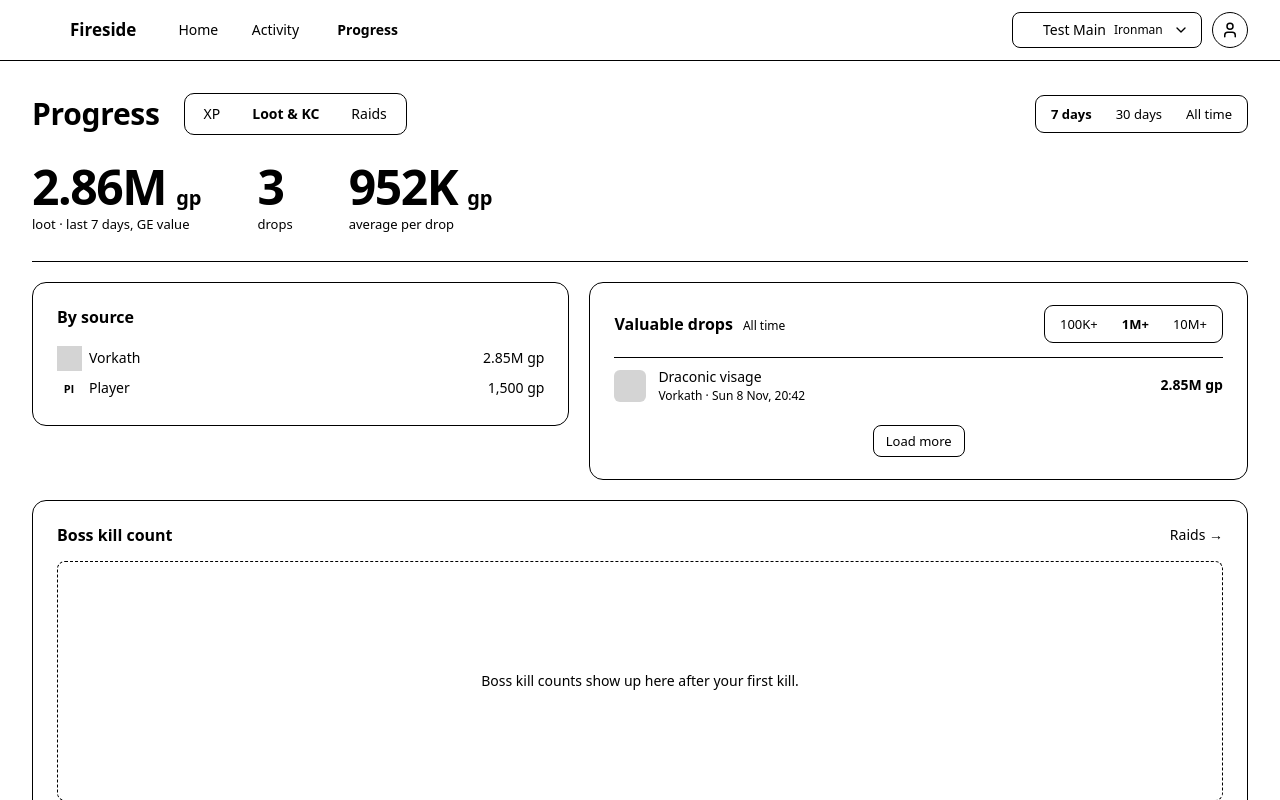
Test: Loot › changes the range with the toggle and keeps it in the URL
Expected: the text "loot · last 7 days, GE value" is shown, [32,215,202,234]
Click the radio button labelled "All time". click: (1209, 114)
box: [1174,99,1244,129]
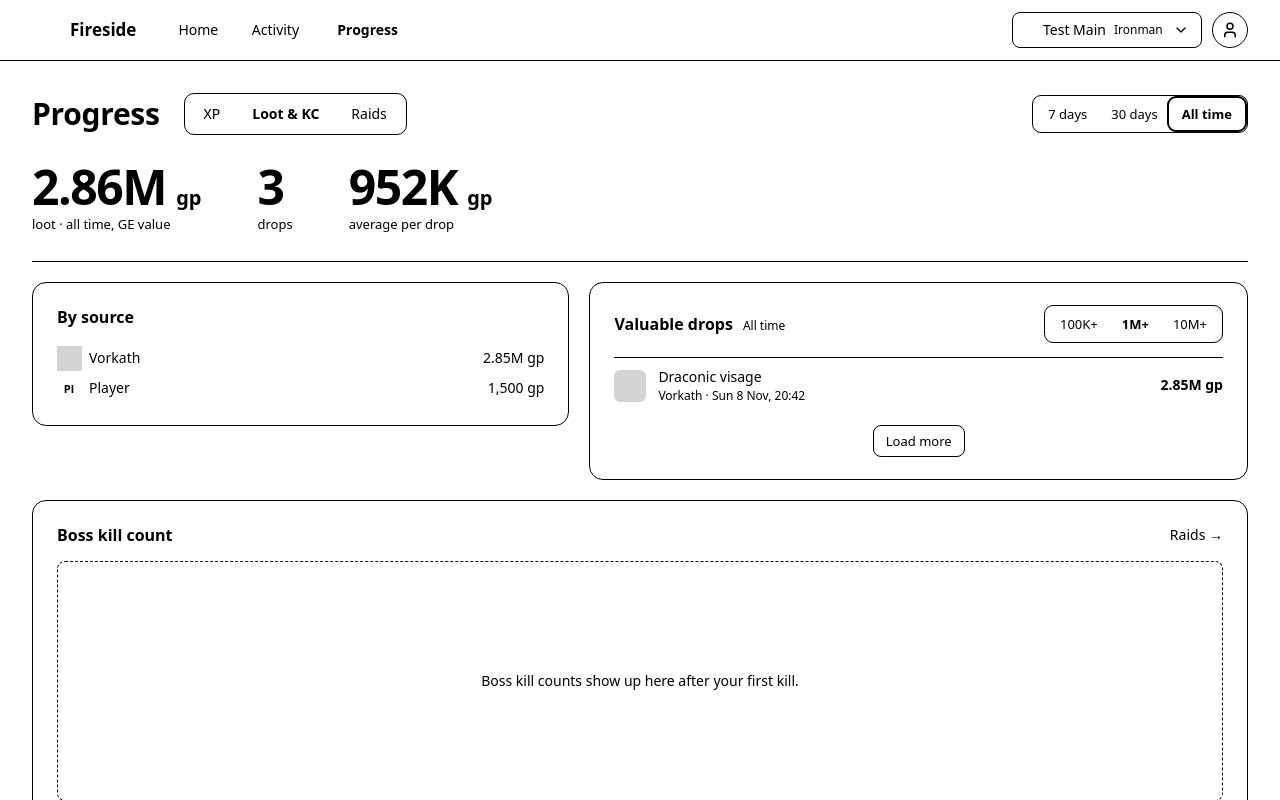
Result: the text "loot · all time, GE value" is shown at [32,215,170,233]
